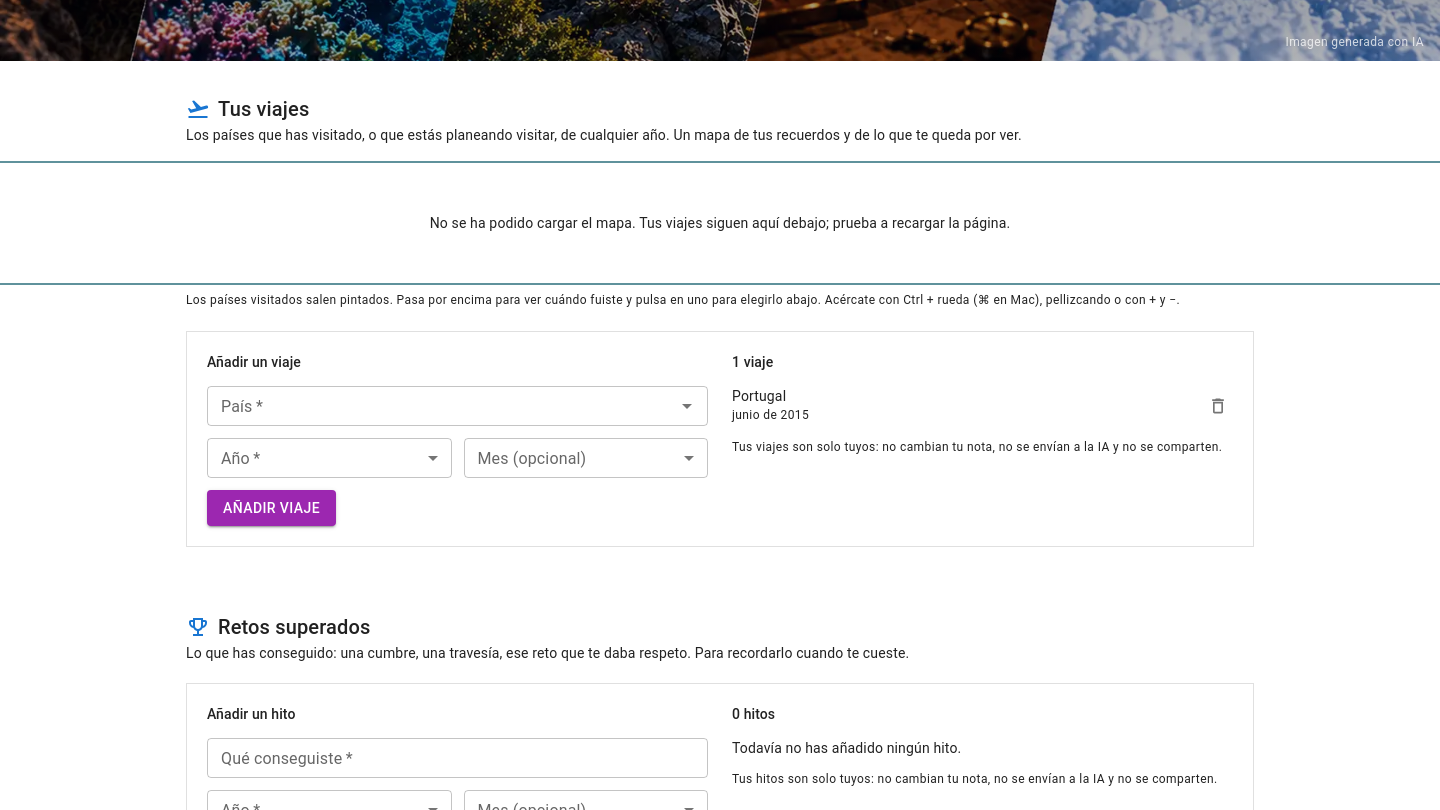
CategoryPage: Aventura (RF-49) › borra un viaje
This screenshot has width=1440, height=810.
(page scrolled)
Click the button named "Borrar el viaje a Portugal (junio de 2015)".
click(1218, 406)  # box [1203,391,1233,421]
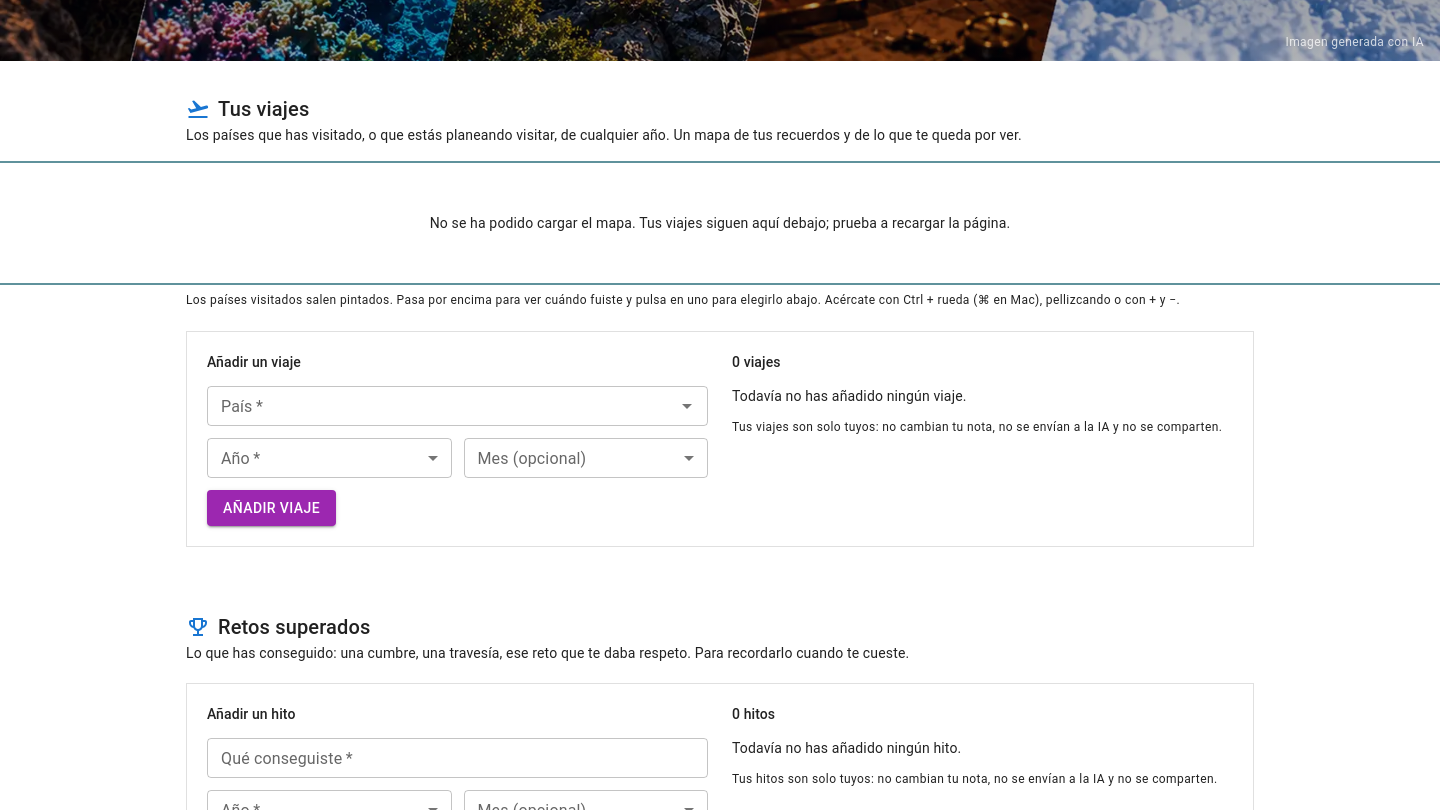
expect the text "Todavía no has añadido ningún viaje." is shown: met, box [732,388,966,404]
